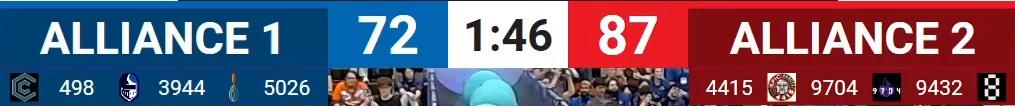blue_score: (353, 11, 422, 58)
red_score: (594, 11, 661, 59)
team_number: (699, 75, 757, 99), (807, 75, 861, 100), (153, 76, 208, 100), (912, 75, 965, 99), (260, 75, 312, 99), (54, 75, 98, 100)
timer: (460, 13, 556, 56)
